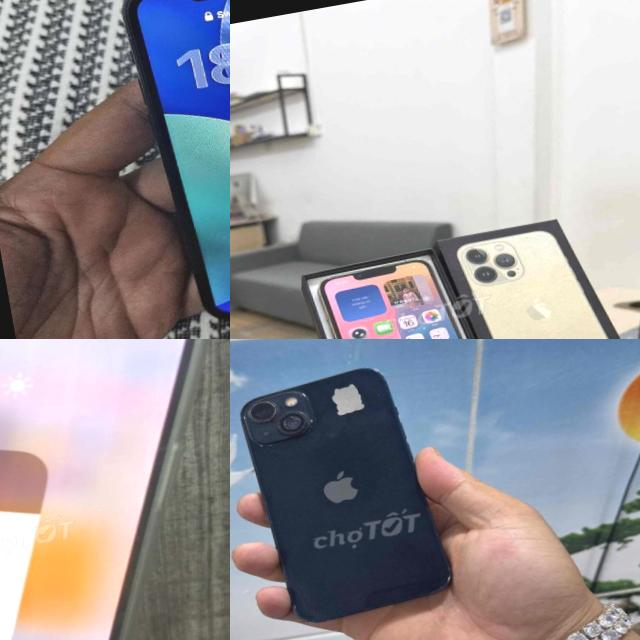physical_damage: (248, 392, 312, 438)
